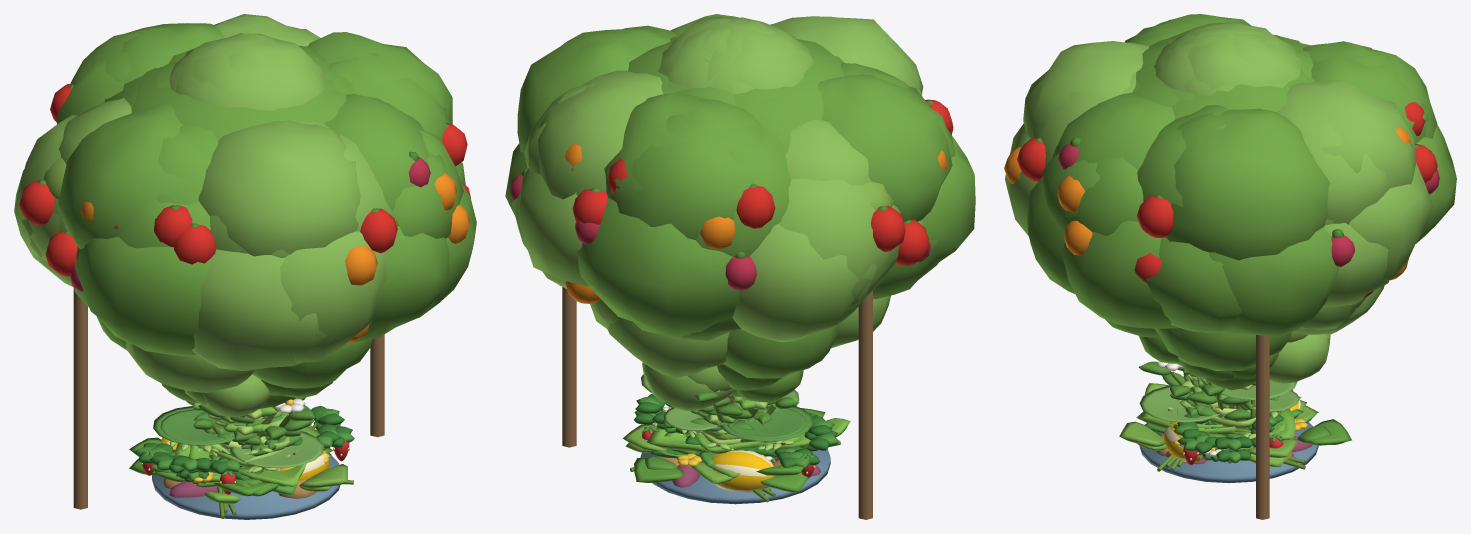
The model's file is crops.glb.
The picture shows the model from 3 angles, left to right: view 1: azimuth 30°, elevation 25°; view 2: azimuth 150°, elevation 25°; view 3: azimuth 270°, elevation 25°; orthographic projection. The views are drawn at different scales.
Visible parts, largest first — view 1: fruit_plum_2, fruit_apple_3, fruit_plum_3, fruit_persimmon_2, fruit_persimmon_3, fruit_persimmon_1, fruit_grape_1, fruit_apple_2, lotus_0, strawberry_3, potato_3, melon_3 (+10 smaller); view 2: fruit_persimmon_3, fruit_plum_2, fruit_apple_3, fruit_apple_2, fruit_persimmon_2, fruit_grape_1, fruit_persimmon_1, fruit_plum_3, melon_3, fruit_plum_1, fruit_persimmon_0, lotus_0 (+11 smaller); view 3: fruit_plum_2, fruit_persimmon_3, fruit_persimmon_2, fruit_apple_3, fruit_apple_2, fruit_plum_3, fruit_plum_1, melon_3, fruit_persimmon_0, lotus_0, fruit_grape_1, potato_3 (+7 smaller).
Part boxes in pixels (x1,y1,x2,y2): fruit_plum_2: [75, 14, 465, 356]; fruit_apple_3: [19, 33, 470, 342]; fruit_plum_3: [47, 33, 453, 370]; fruit_persimmon_2: [70, 28, 476, 362]; fruit_persimmon_3: [17, 32, 469, 343]; fruit_persimmon_1: [96, 316, 372, 392]; fruit_grape_1: [43, 158, 384, 509]; fruit_apple_2: [14, 38, 395, 287]; lotus_0: [152, 455, 340, 519]; strawberry_3: [134, 406, 354, 494]; potato_3: [163, 399, 316, 498]; melon_3: [129, 424, 353, 518]; fruit_persimmon_3: [517, 19, 947, 337]; fruit_plum_2: [536, 14, 975, 278]; fruit_apple_3: [512, 17, 953, 288]; fruit_apple_2: [505, 24, 877, 403]; fruit_persimmon_2: [524, 20, 955, 240]; fruit_grape_1: [562, 181, 893, 519]; fruit_persimmon_1: [590, 295, 890, 378]; fruit_plum_3: [510, 18, 930, 340]; melon_3: [622, 408, 840, 502]; fruit_plum_1: [606, 317, 729, 377]; fruit_persimmon_0: [642, 362, 781, 410]; lotus_0: [640, 449, 830, 504]; fruit_plum_2: [1023, 23, 1428, 333]; fruit_persimmon_3: [1004, 25, 1456, 281]; fruit_persimmon_2: [1005, 28, 1437, 328]; fruit_apple_3: [1017, 14, 1437, 307]; fruit_apple_2: [1033, 33, 1372, 408]; fruit_plum_3: [1042, 22, 1439, 298]; fruit_plum_1: [1137, 285, 1384, 371]; melon_3: [1119, 389, 1351, 471]; fruit_persimmon_0: [1178, 334, 1330, 383]; lotus_0: [1139, 422, 1318, 482]; fruit_grape_1: [1256, 335, 1269, 519]; potato_3: [1138, 361, 1293, 459].
Bounding box in the file's own units: 1.94 × 2.07 × 2.01.
